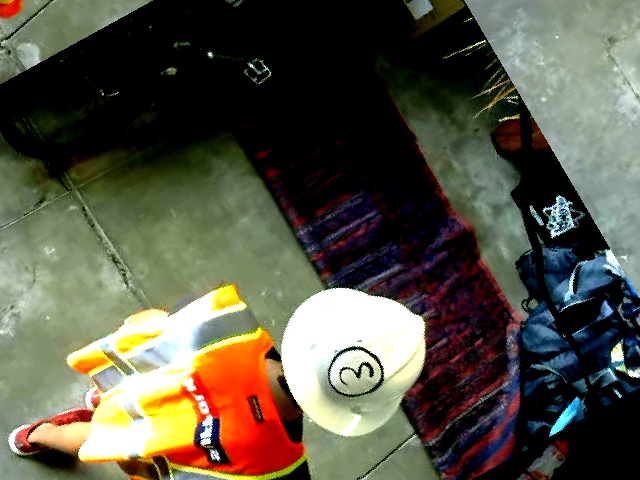three: (317, 334, 391, 405)
